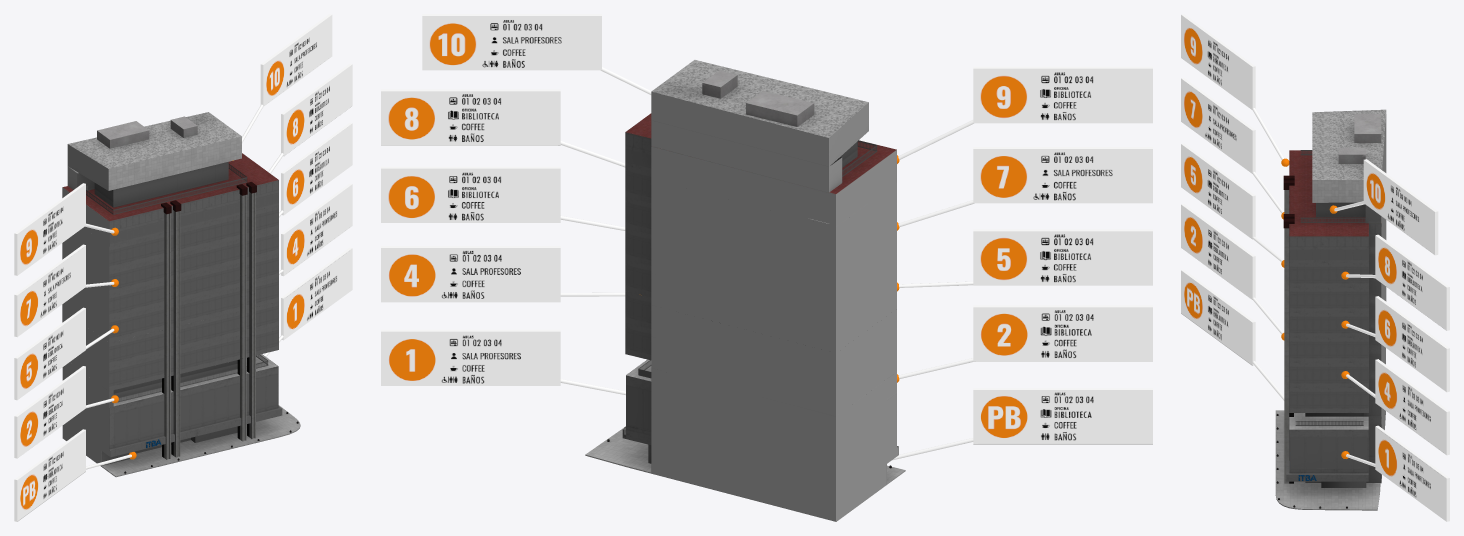
3 views of the same model, side by side, from view 1: azimuth 30°, elevation 25°; view 2: azimuth 150°, elevation 25°; view 3: azimuth 270°, elevation 25° (orthographic). The views are drawn at different scales.
Parts seen in each view (by area): view 1: Edificio_low, Sphere008, Sphere001, Sphere006, Sphere002, Sphere004, Sphere010, Sphere003, Sphere011, Sphere005, Sphere007; view 2: Edificio_low, Sphere002, Sphere004, Sphere008, Sphere010, Sphere006, Sphere003, Sphere011, Sphere005, Sphere007, Sphere001; view 3: Edificio_low, Sphere002, Sphere001, Sphere004, Sphere010, Sphere007, Sphere008, Sphere005, Sphere011, Sphere003, Sphere006.
Part boxes in pixels (left/top/right/bottom): Edificio_low: left=62, top=112, right=300, bottom=477; Sphere008: left=14, top=429, right=136, bottom=521; Sphere001: left=232, top=14, right=332, bottom=160; Sphere006: left=14, top=307, right=118, bottom=400; Sphere002: left=14, top=183, right=118, bottom=275; Sphere004: left=14, top=244, right=118, bottom=337; Sphere010: left=14, top=366, right=118, bottom=458; Sphere003: left=268, top=63, right=352, bottom=173; Sphere011: left=264, top=247, right=352, bottom=356; Sphere005: left=279, top=122, right=352, bottom=217; Sphere007: left=279, top=183, right=352, bottom=276; Edificio_low: left=585, top=60, right=905, bottom=521; Sphere002: left=897, top=66, right=1152, bottom=163; Sphere004: left=897, top=147, right=1152, bottom=230; Sphere008: left=892, top=388, right=1152, bottom=460; Sphere010: left=897, top=305, right=1152, bottom=382; Sphere006: left=897, top=229, right=1152, bottom=291; Sphere003: left=381, top=89, right=625, bottom=167; Sphere011: left=381, top=329, right=625, bottom=395; Sphere005: left=381, top=166, right=625, bottom=230; Sphere007: left=381, top=246, right=625, bottom=302; Sphere001: left=422, top=14, right=651, bottom=94; Edificio_low: left=1275, top=109, right=1386, bottom=510; Sphere002: left=1181, top=14, right=1289, bottom=166; Sphere001: left=1329, top=159, right=1438, bottom=255; Sphere004: left=1181, top=78, right=1284, bottom=219; Sphere010: left=1181, top=204, right=1284, bottom=340; Sphere007: left=1341, top=359, right=1449, bottom=455; Sphere008: left=1181, top=269, right=1284, bottom=400; Sphere005: left=1341, top=296, right=1449, bottom=392; Sphere011: left=1341, top=425, right=1449, bottom=521; Sphere003: left=1341, top=234, right=1449, bottom=330; Sphere006: left=1181, top=143, right=1284, bottom=267.
Size of the model in its own units: 2.31 by 1.59 by 1.11.
Materials: 2 (2 with a texture image).
